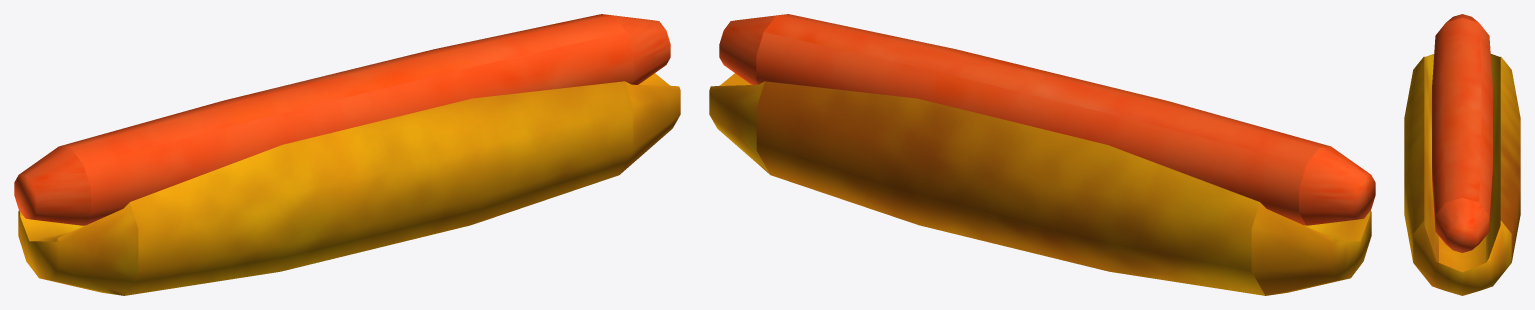
File: Max_HotDog.FBX
The picture shows the model from 3 angles, left to right: view 1: azimuth 30°, elevation 25°; view 2: azimuth 150°, elevation 25°; view 3: azimuth 270°, elevation 25°; orthographic projection. The views are drawn at different scales.
Parts seen in each view (by area): view 1: Cylinder003; view 2: Cylinder003; view 3: Cylinder003.
Boxes of the visible parts, x1,y1,x2,y2 form: Cylinder003: (14,14,680,295); Cylinder003: (709,14,1375,295); Cylinder003: (1404,14,1520,295).
Size of the model in its own units: 102 by 25.77 by 23.59.
1 material, 1 textured.
